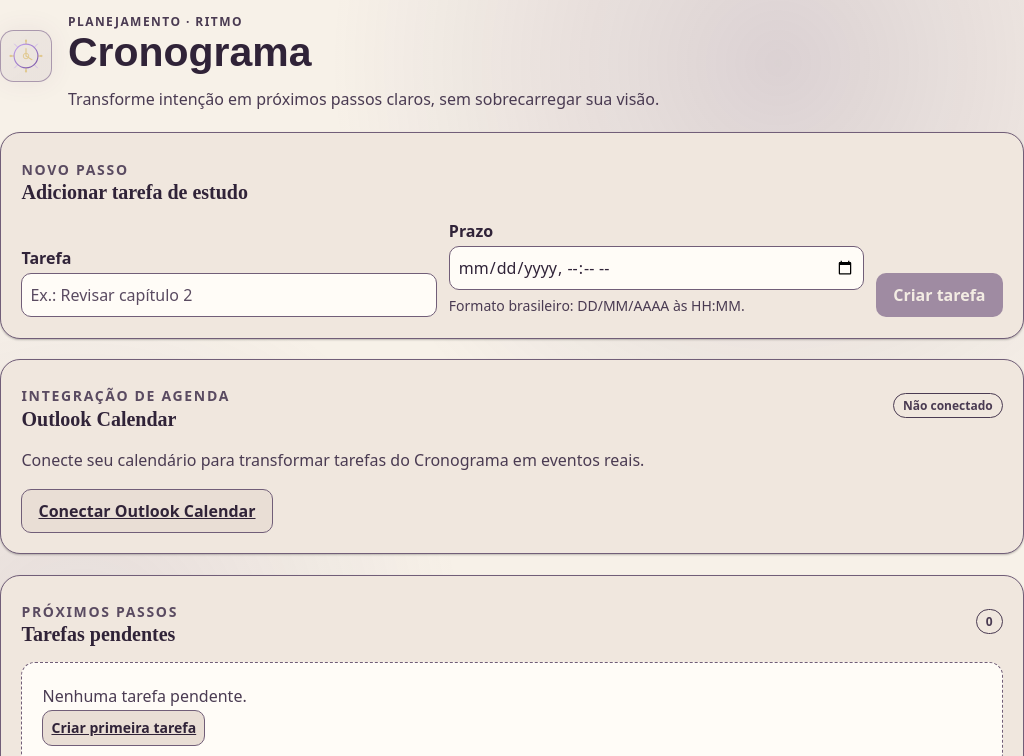
StudyTaskBoard accessibility contract › announces creation failures with an alert
The image size is (1024, 756).
In the field labelled "Tarefa": (229, 295) [22,273,437,317], type "Nova tarefa"
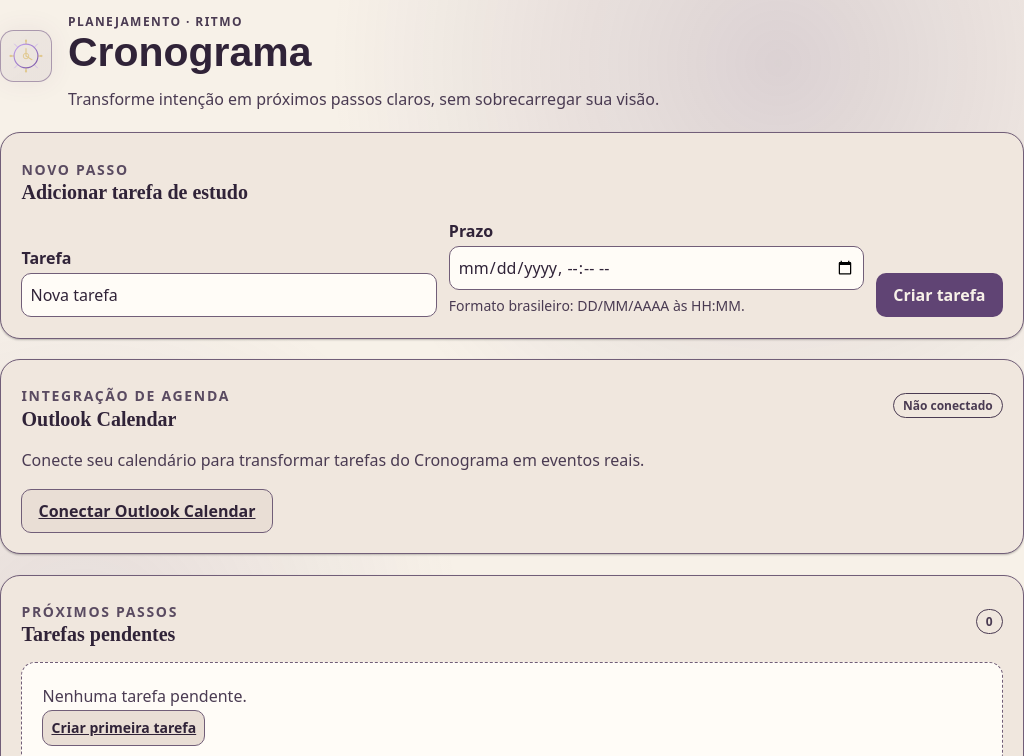
Click the button "Criar tarefa": (939, 295) [876,273,1002,317]
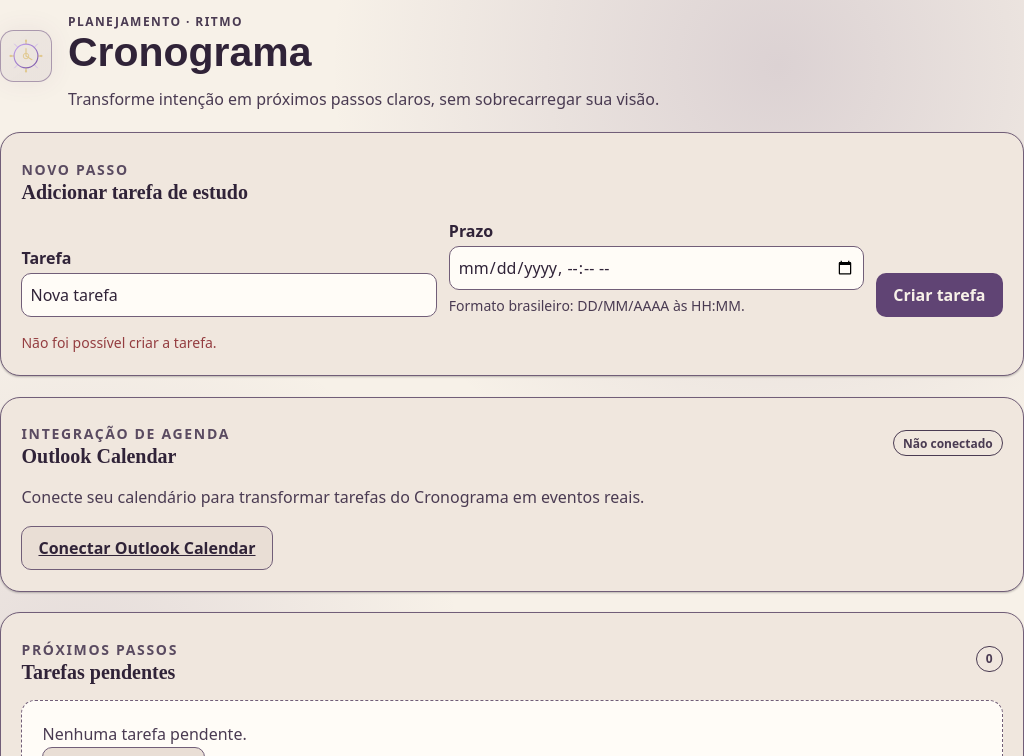
Now the message reads "Não foi possível criar a tarefa.", box [22,334,217,352]
